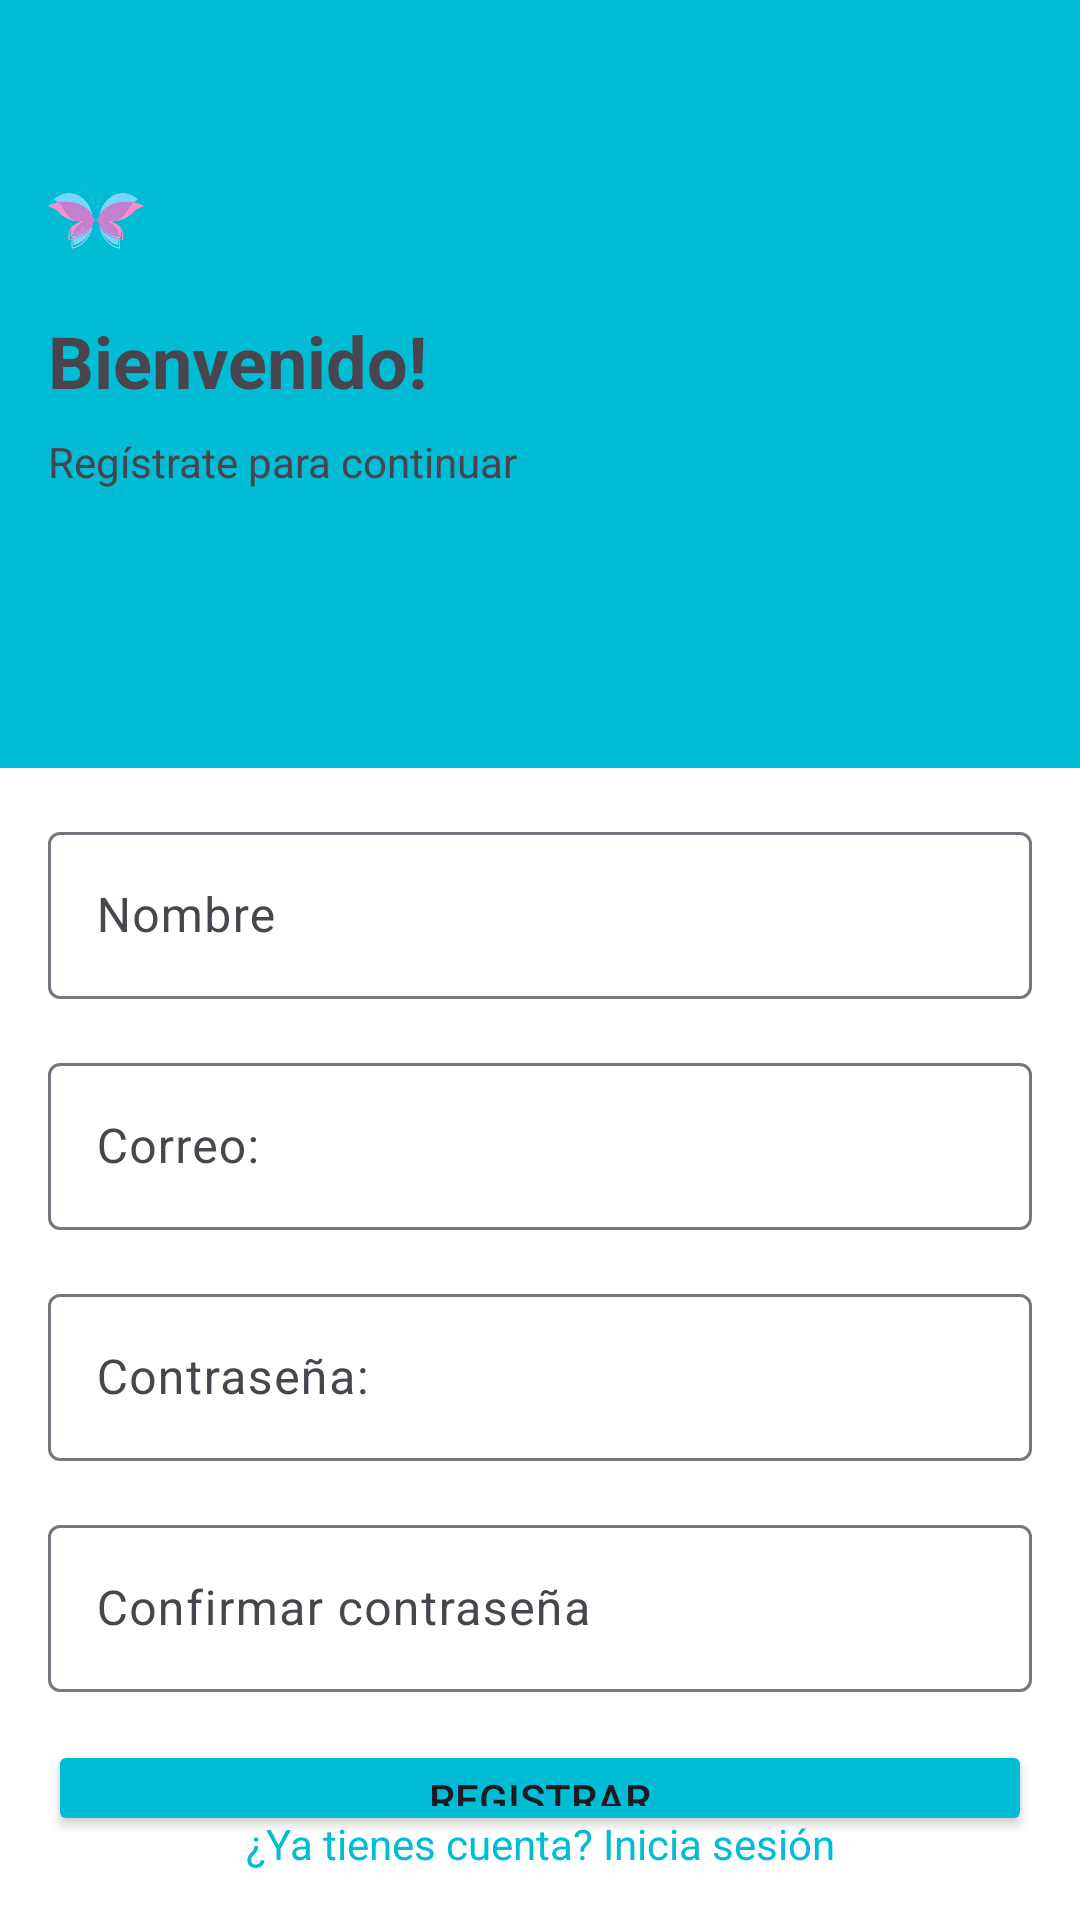

Icon bounding boxes for this 1080 x 1920 phone screenshot, format (x1, y1, x2, y2):
butterfly: (48, 185, 144, 249)
